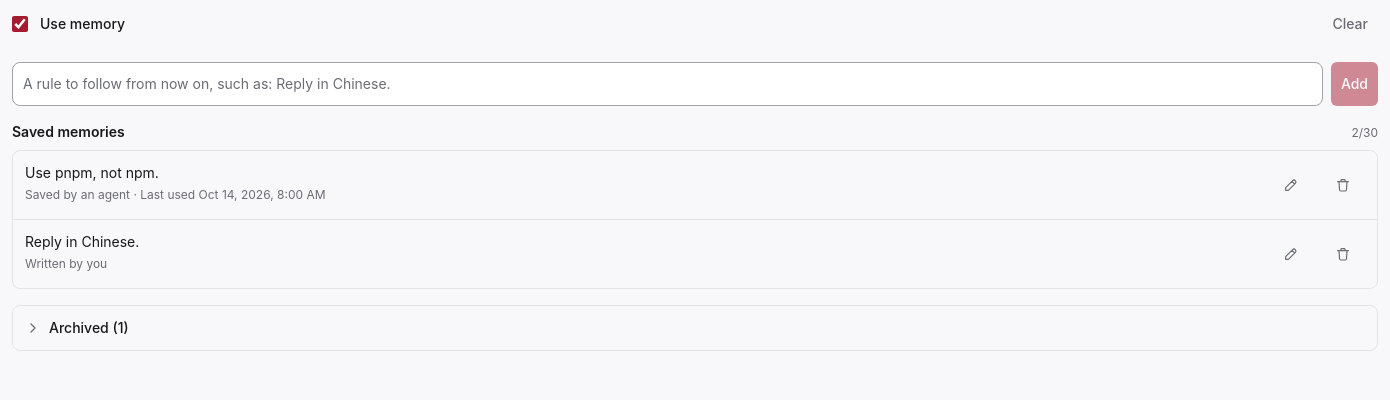
one scope of durable memories › names the reason a change was refused
The width and height of the screenshot is (1390, 400).
Check: the text "Use pnpm, not npm." is shown, box left=25, top=164, right=159, bottom=181
Type "Another rule" into the field named "New memory" at (667, 84), box left=12, top=62, right=1323, bottom=106
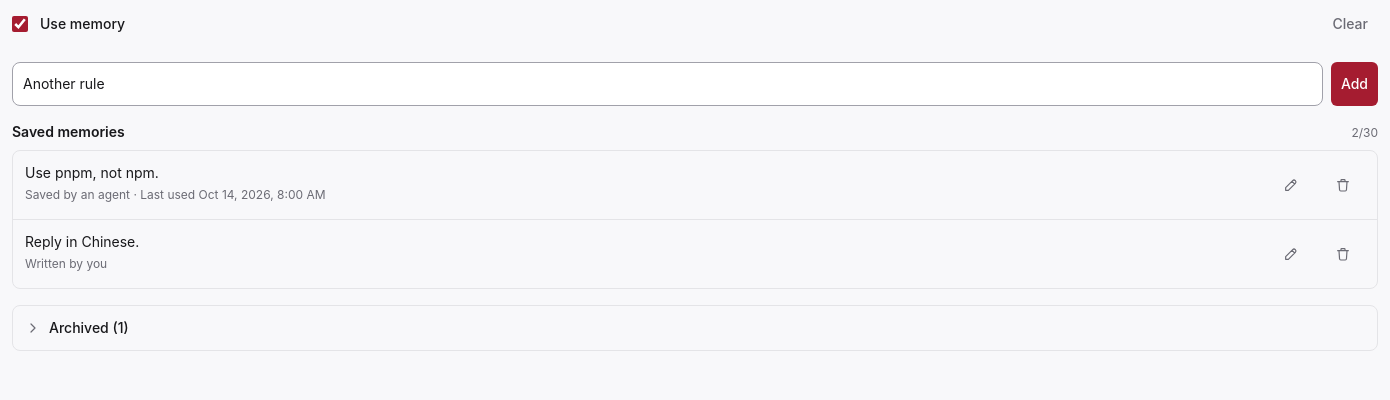
Click the button "Add" at (1354, 84), box left=1331, top=62, right=1378, bottom=106
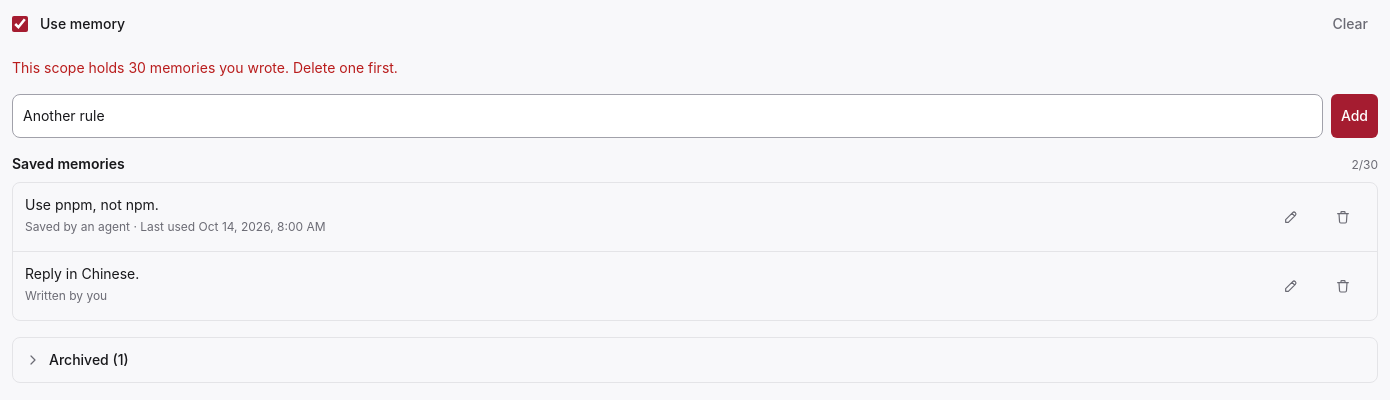
Check: the message shows "holds 30 memories you wrote", box left=12, top=59, right=398, bottom=76
Click the button "Add" at (1354, 116), box left=1331, top=94, right=1378, bottom=138
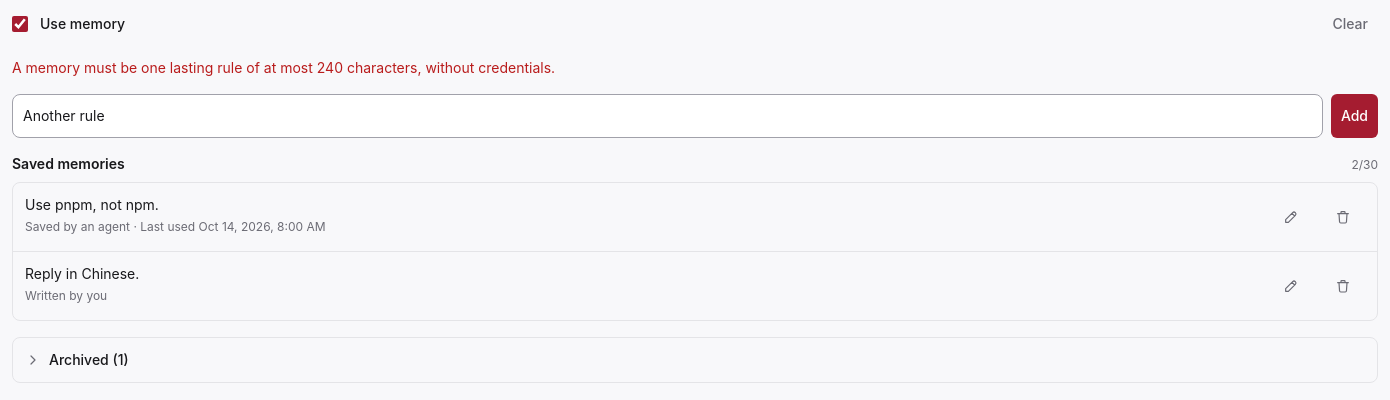
Check: the message shows "at most 240 characters", box left=12, top=59, right=555, bottom=76
